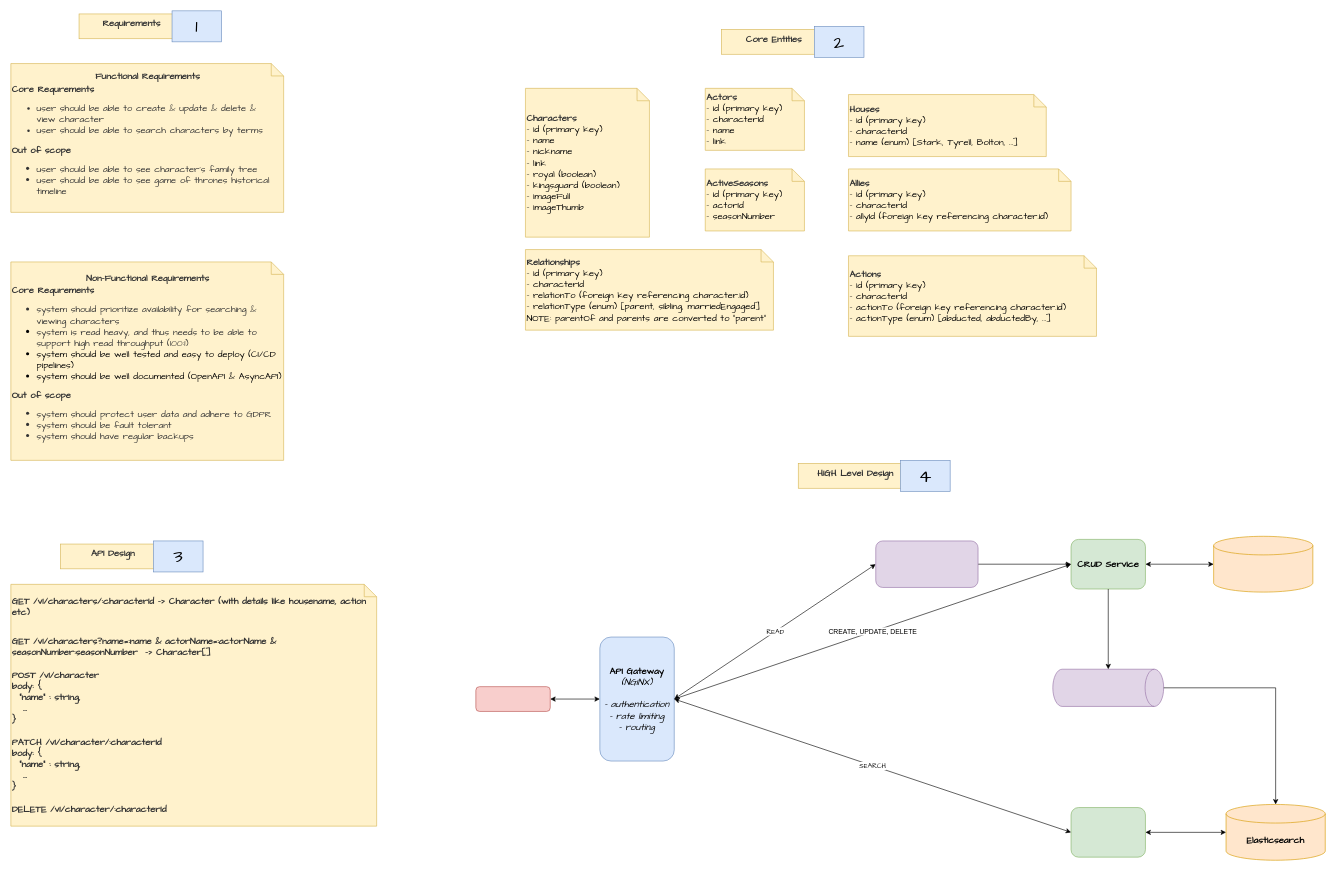
The diagram is 1336 pixels wide and 871 high, and some of its shapes have lost their labels. The shapes that lost their labels are listed below. From the top down, each one's box as (x1, y1, x2, y2) in pixels, then its label:
(875, 540, 978, 587): Cache (REDIS)
(1213, 536, 1313, 592): Database ( POSTGRES )
(475, 686, 550, 711): Client
(1052, 669, 1164, 706): Streaming Service (KAFKA)
(1070, 807, 1145, 857): Search Service
